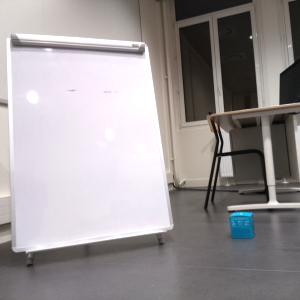big: (9, 38, 172, 259)
small: (230, 212, 255, 239)
